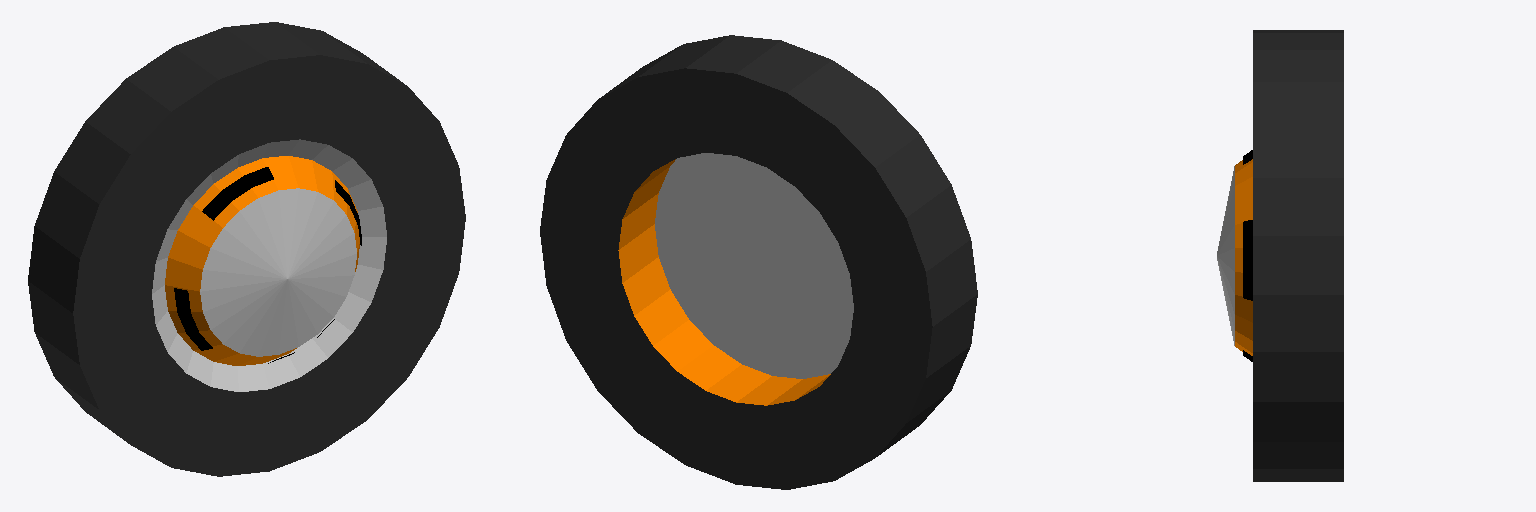
Rendered from wheel.obj.
The picture shows the model from 3 angles: view 1: azimuth 30°, elevation 25°; view 2: azimuth 150°, elevation 25°; view 3: azimuth 270°, elevation 25°; orthographic projection.
Size of the model in its own units: 1 by 1 by 0.28.